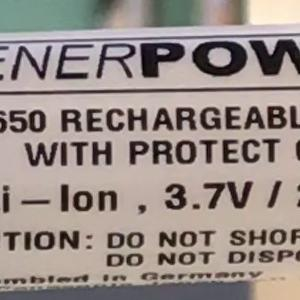keyword: (155, 171, 261, 220)
